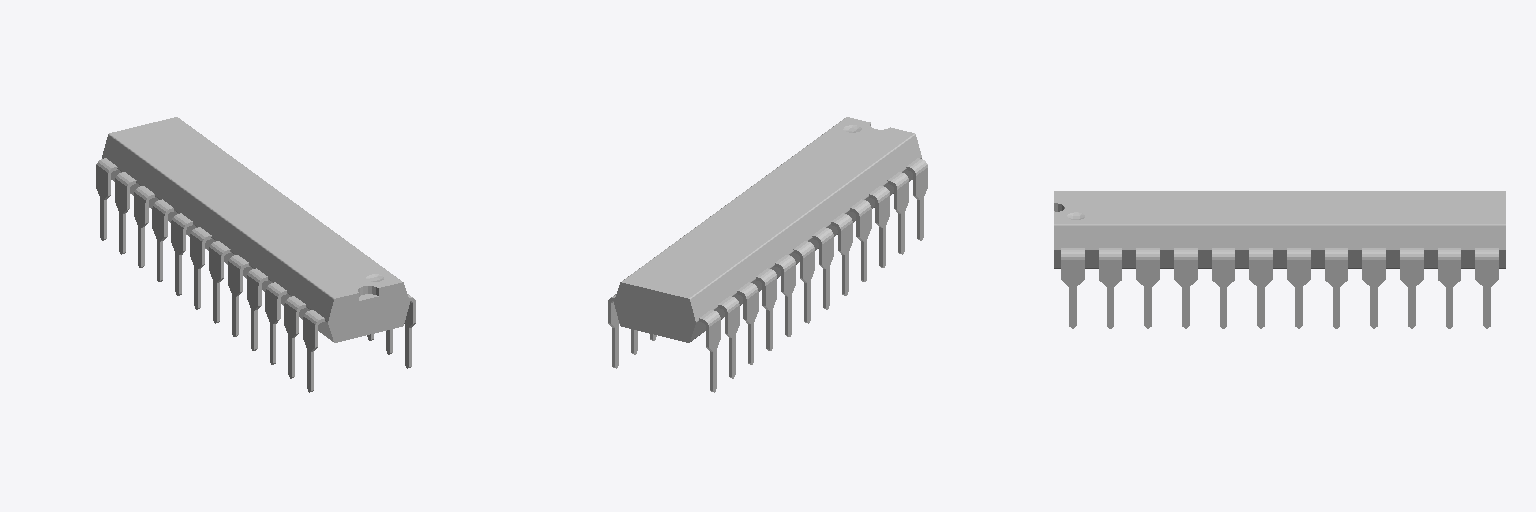
The picture shows the model from 3 angles: view 1: azimuth 30°, elevation 25°; view 2: azimuth 150°, elevation 25°; view 3: azimuth 270°, elevation 25°; orthographic projection.
Visible parts, largest first — view 1: Volumenkörper1; view 2: Volumenkörper1; view 3: Volumenkörper1.
Part boxes in pixels (bbox=[...]): Volumenkörper1: bbox=[96, 117, 415, 392]; Volumenkörper1: bbox=[608, 117, 927, 392]; Volumenkörper1: bbox=[1054, 191, 1505, 328].
Bounding box in the file's own units: 7.87 × 7.17 × 30.48.